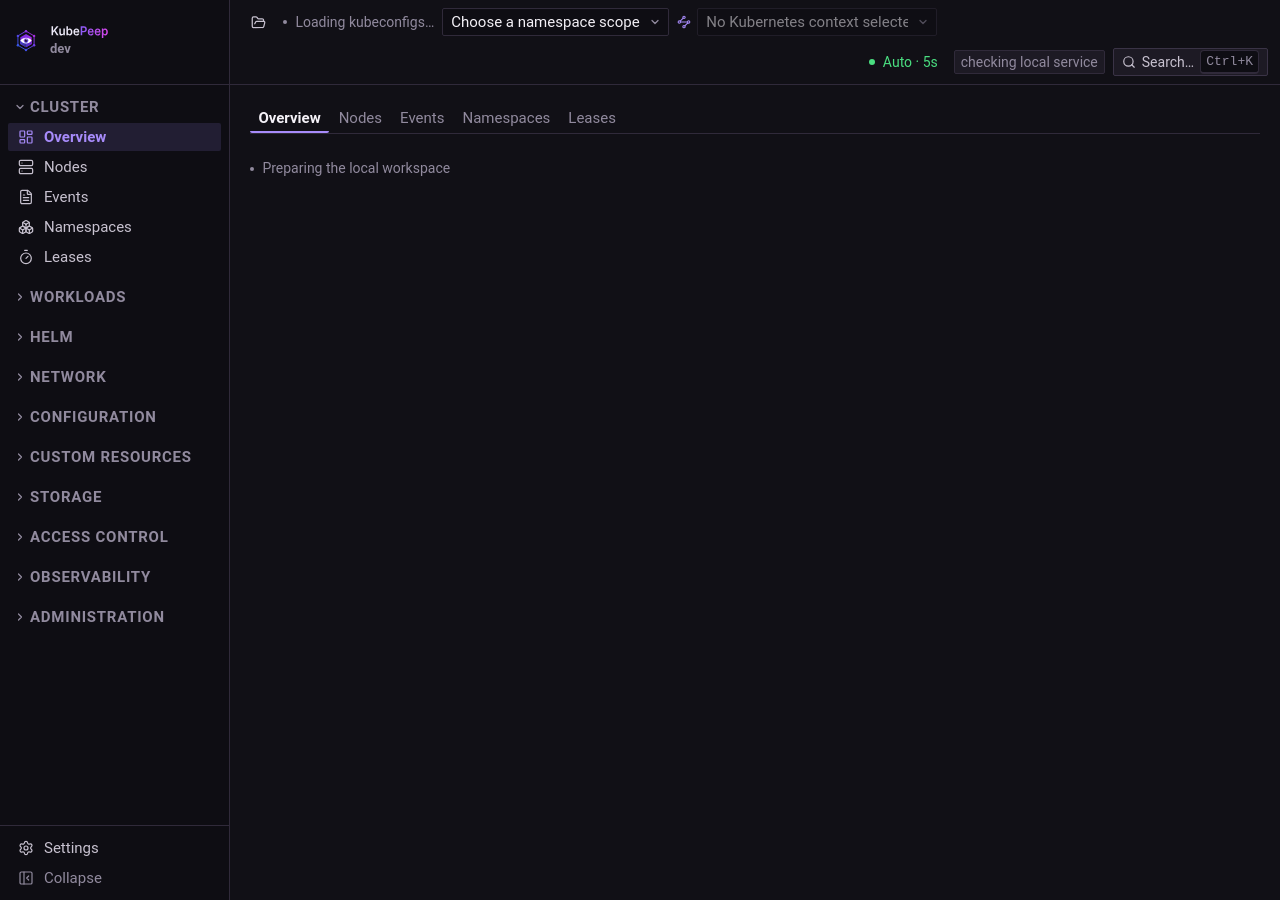
Test: application shell › renders the accessible loading state while bootstrap is pending
Expected: the navigation bar named "Primary navigation" is shown, top-left (0, 85), bottom-right (229, 899)
Click the button with aria-label "Open command center" at (1190, 62), box top-left (1113, 48), bottom-right (1268, 76)
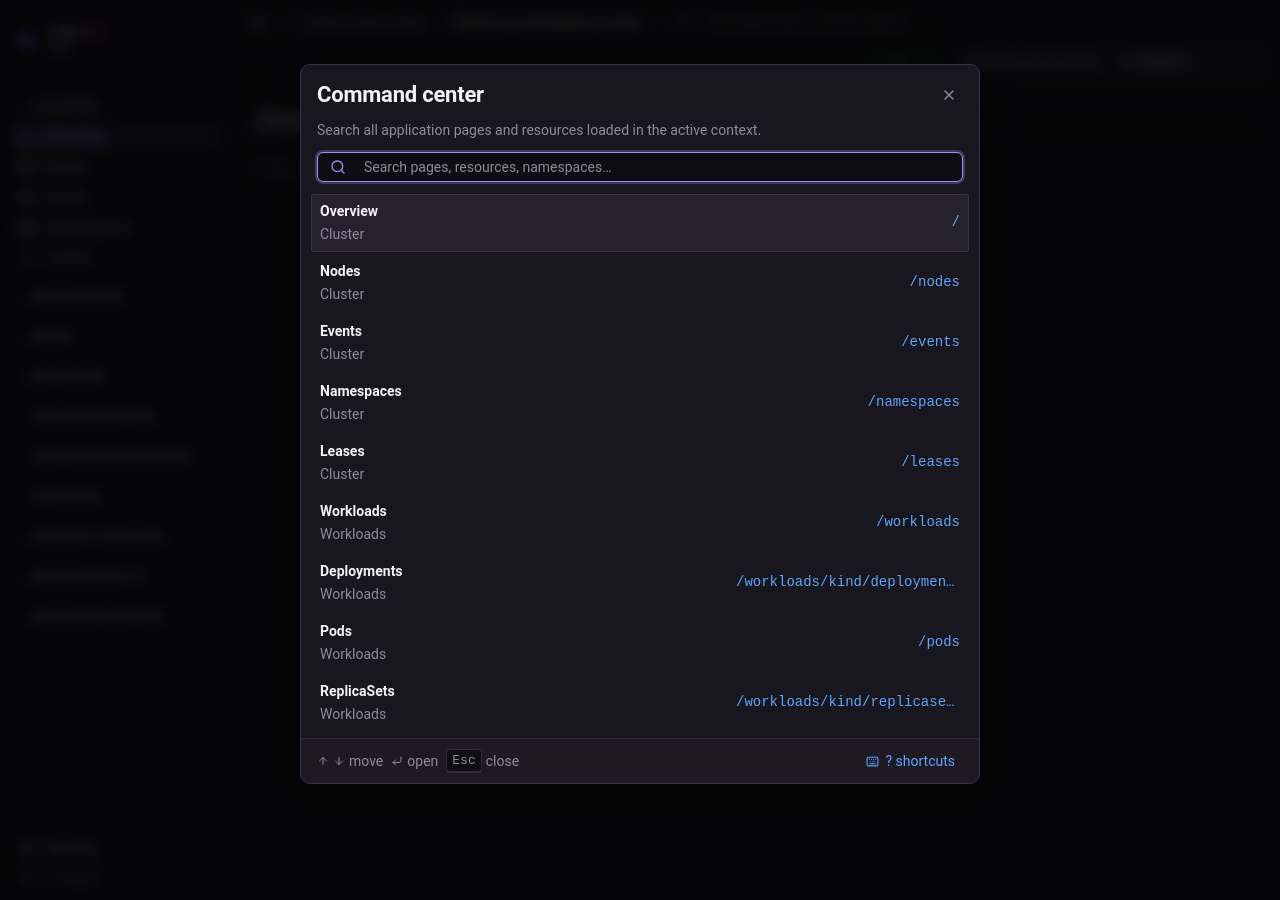
Expected: the dialog "Command center" is shown, top-left (300, 64), bottom-right (980, 784)
